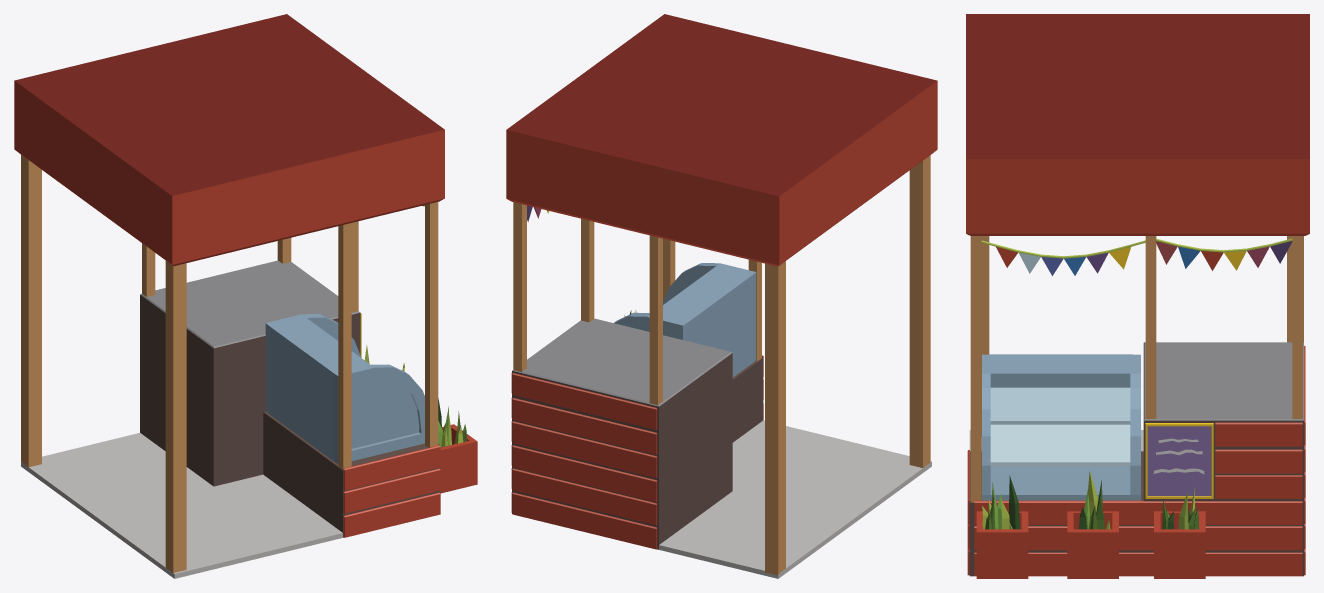
Rendered from Store_01.glb.
The picture shows the model from 3 angles, left to right: view 1: azimuth 30°, elevation 25°; view 2: azimuth 150°, elevation 25°; view 3: azimuth 270°, elevation 25°; orthographic projection. The views are drawn at different scales.
Visible parts, largest first — view 1: Store_01; view 2: Store_01; view 3: Store_01.
Boxes of the visible parts, bbox=[...] form: Store_01: bbox=[14, 14, 477, 578]; Store_01: bbox=[506, 14, 937, 578]; Store_01: bbox=[966, 14, 1309, 578].
Size of what is drawn, in the model's own units: 2.93 by 3.48 by 2.59.
Materials: 1 (1 with a texture image).
